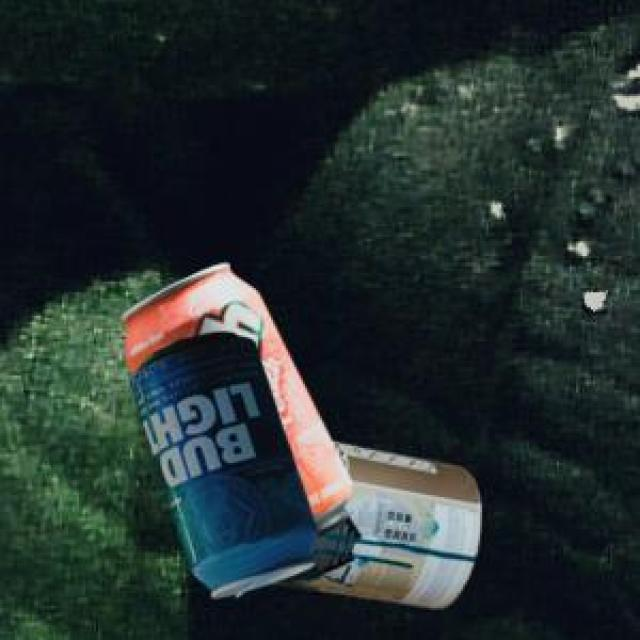Can: (118, 261, 349, 532), (127, 330, 315, 594), (268, 438, 477, 605)
